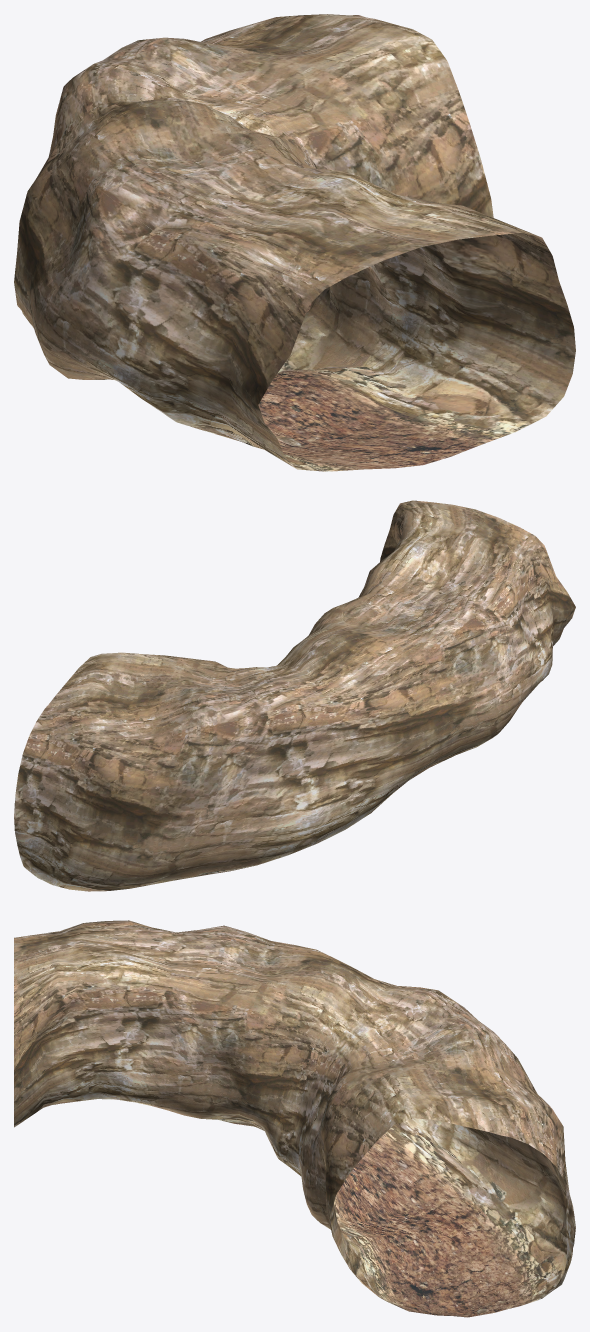
The model's file is thm_tato_cave_s01_r9_mesh_r9.fbx.
3 renders of one model, top to bottom at view 1: azimuth 30°, elevation 25°; view 2: azimuth 150°, elevation 25°; view 3: azimuth 270°, elevation 25°, orthographic. The views are drawn at different scales.
Visible parts, largest first — view 1: mesh_node; view 2: mesh_node; view 3: mesh_node.
Part boxes in pixels (bbox=[...]): mesh_node: bbox=[14, 14, 575, 471]; mesh_node: bbox=[14, 500, 575, 891]; mesh_node: bbox=[14, 920, 575, 1317].
Bounding box in the file's own units: 20.55 × 15.11 × 28.7.
